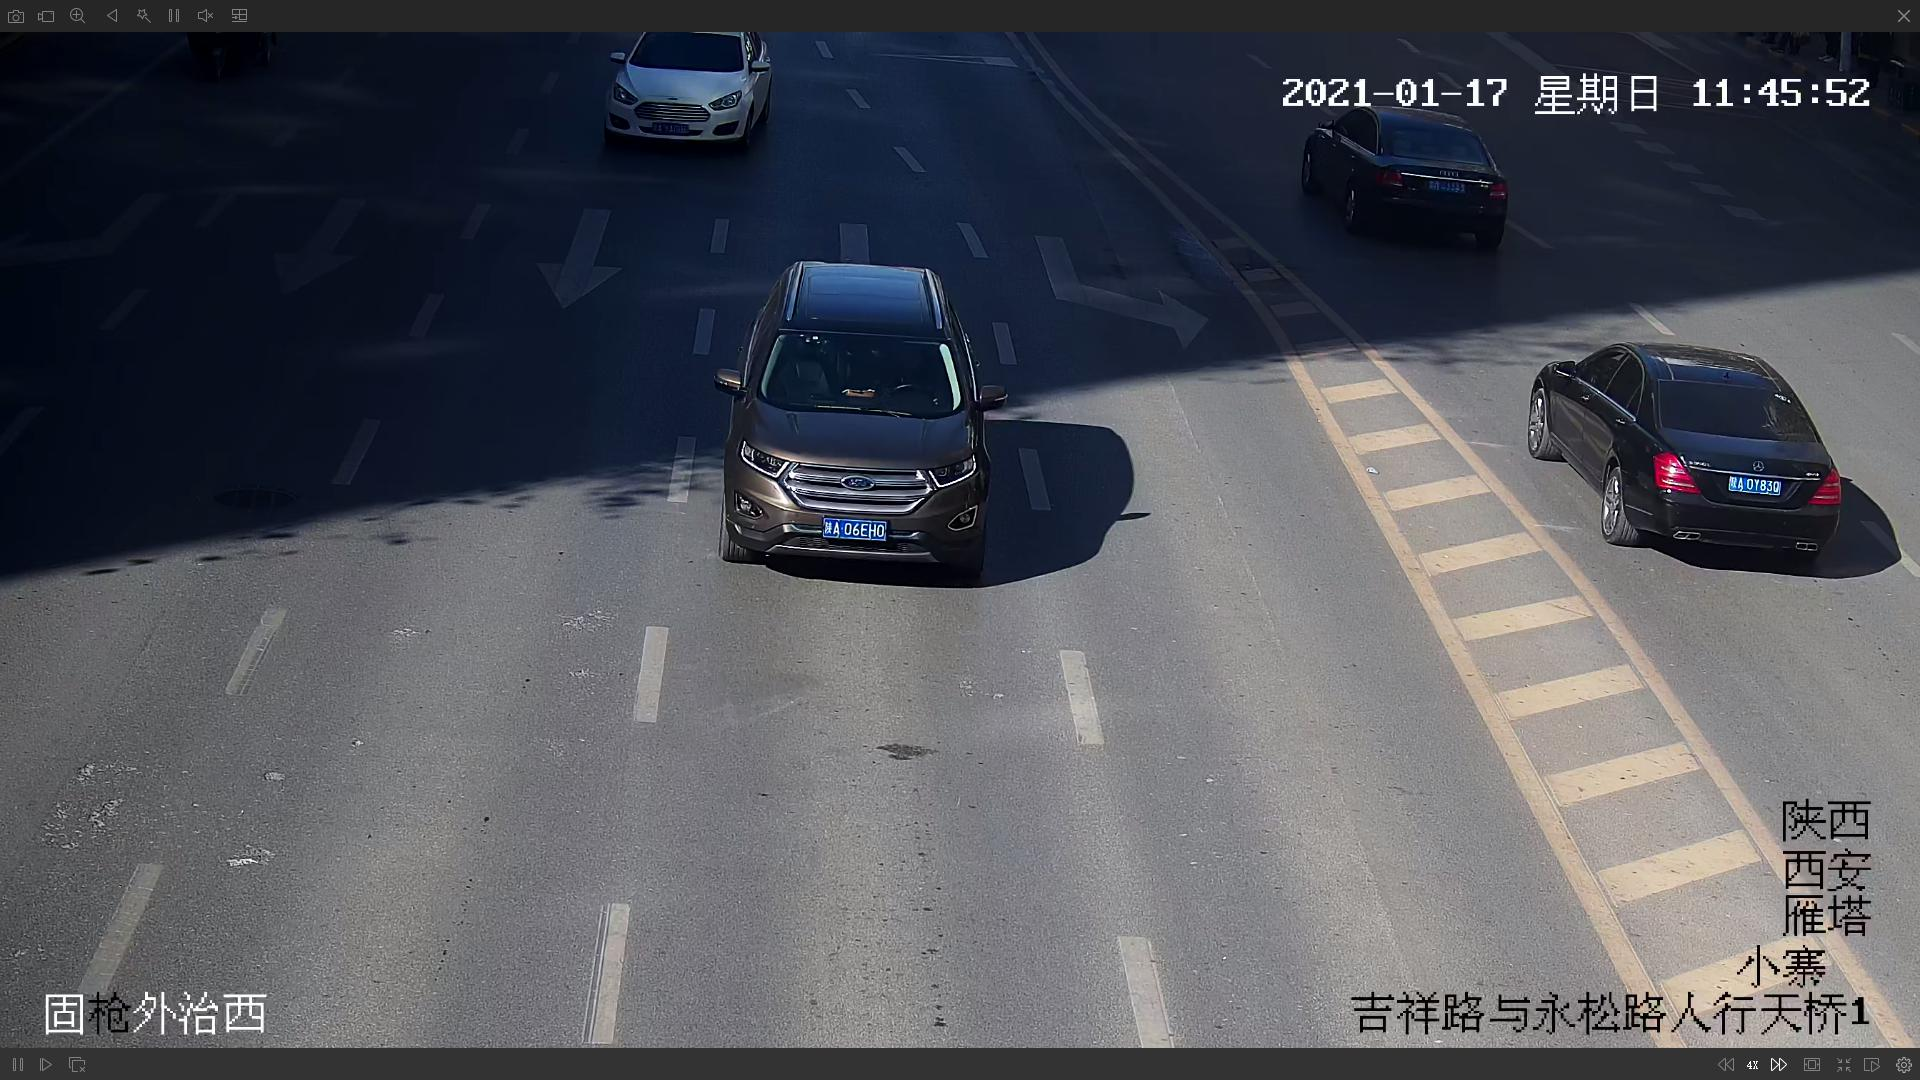black: (1528, 344, 1846, 564), (1294, 111, 1526, 247)
dark-brown: (715, 258, 1001, 570)
white: (599, 32, 767, 152)
